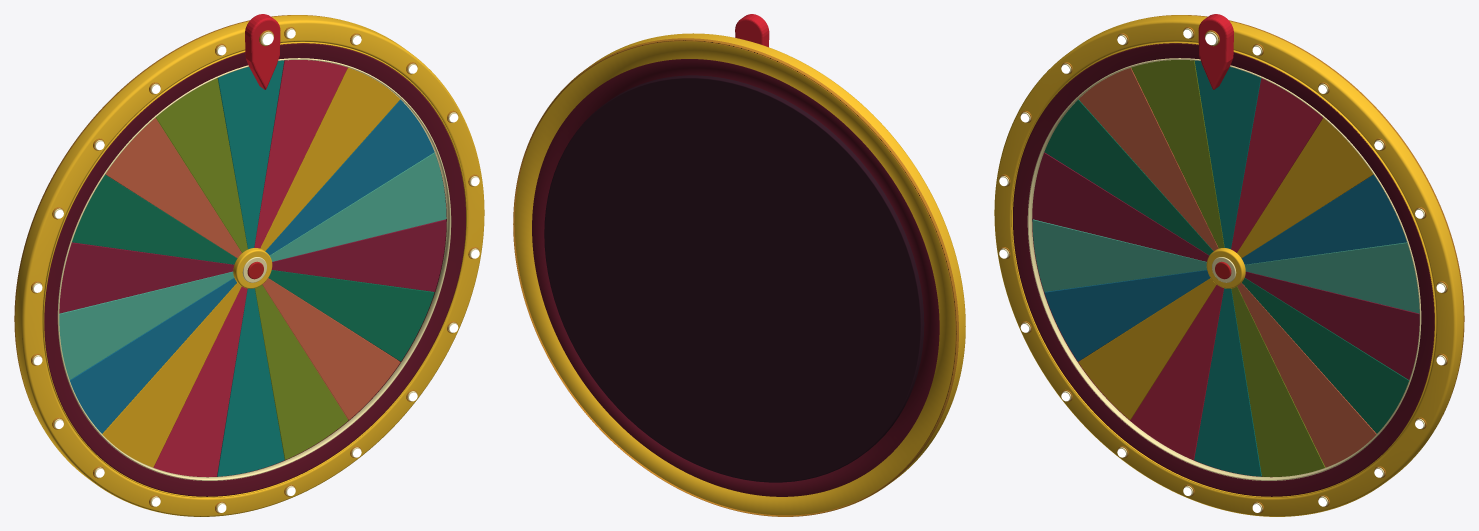
The model's file is wheel.glb.
3 renders of one model, left to right at view 1: azimuth 30°, elevation 25°; view 2: azimuth 150°, elevation 25°; view 3: azimuth 330°, elevation 25°, orthographic. The views are drawn at different scales.
Visible parts, largest first — view 1: Frame_Gold_Outer, Frame_Burgundy_Inner, Segment_10, Segment_09, Segment_04, Segment_07, Segment_05, Segment_03, Segment_11, Segment_08, Segment_06, Segment_02 (+13 smaller); view 2: Body, Frame_Gold_Outer, Frame_Burgundy_Inner, Frame_Gold_Outer_Edge, Pointer_Ruby_Body; view 3: Frame_Gold_Outer, Frame_Burgundy_Inner, Segment_08, Segment_09, Segment_14, Segment_11, Segment_13, Segment_15, Segment_07, Segment_10, Segment_12, Segment_16 (+13 smaller).
Part boxes in pixels (<box>): Frame_Gold_Outer: <box>15,15,484,516</box>; Frame_Burgundy_Inner: <box>44,43,465,496</box>; Segment_10: <box>153,286,247,476</box>; Segment_09: <box>217,288,284,476</box>; Segment_04: <box>269,152,446,261</box>; Segment_07: <box>262,278,400,419</box>; Segment_05: <box>272,219,446,291</box>; Segment_03: <box>265,99,434,255</box>; Segment_11: <box>102,283,241,467</box>; Segment_08: <box>255,285,348,459</box>; Segment_06: <box>268,270,434,361</box>; Segment_02: <box>260,67,400,250</box>; Body: <box>544,75,924,482</box>; Frame_Gold_Outer: <box>514,33,965,515</box>; Frame_Burgundy_Inner: <box>532,59,939,496</box>; Frame_Gold_Outer_Edge: <box>513,38,958,516</box>; Pointer_Ruby_Body: <box>735,14,769,47</box>; Frame_Gold_Outer: <box>994,15,1463,516</box>; Frame_Burgundy_Inner: <box>1013,43,1434,496</box>; Segment_08: <box>1231,286,1325,476</box>; Segment_09: <box>1194,288,1261,476</box>; Segment_14: <box>1032,152,1209,261</box>; Segment_11: <box>1078,278,1216,419</box>; Segment_13: <box>1032,219,1206,291</box>; Segment_15: <box>1044,99,1213,255</box>; Segment_07: <box>1237,283,1376,467</box>; Segment_10: <box>1130,285,1223,459</box>; Segment_12: <box>1044,270,1210,361</box>; Segment_16: <box>1078,67,1218,250</box>.
Size of the model in its own units: 4.33 by 4.49 by 0.439.
